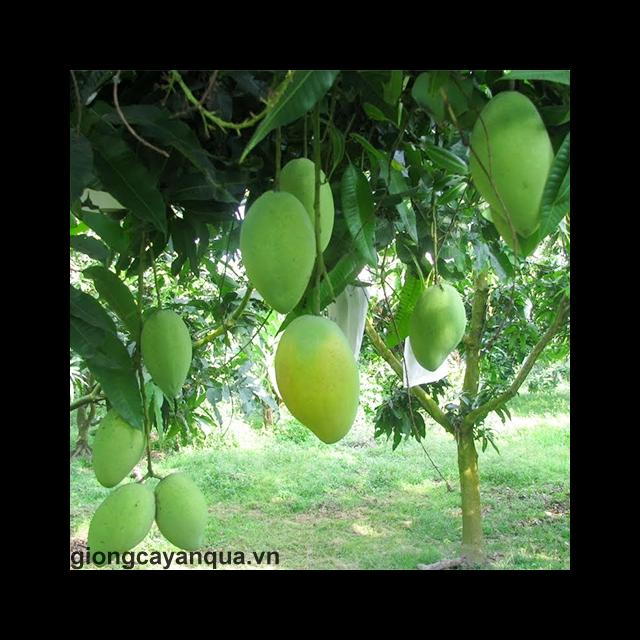xoai: (471, 91, 556, 240), (276, 314, 358, 445), (238, 189, 317, 316), (89, 483, 152, 565), (410, 283, 467, 372), (91, 406, 147, 488), (140, 311, 193, 396), (154, 474, 209, 553)
